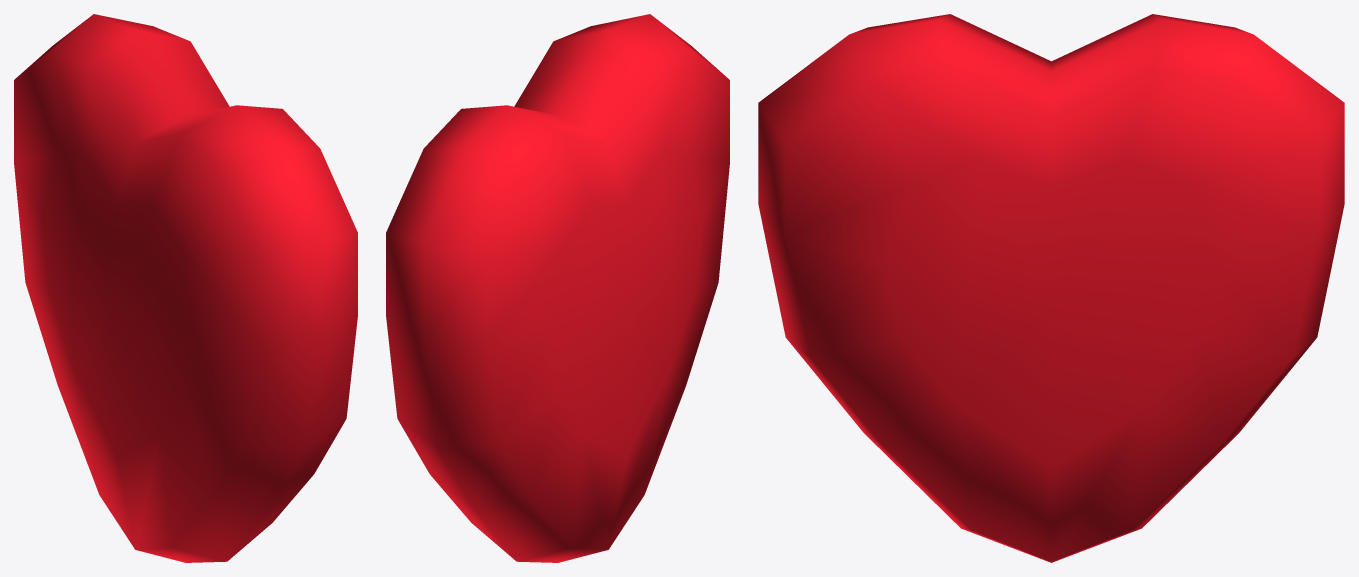
The model's file is heart.fbx.
The picture shows the model from 3 angles, left to right: view 1: azimuth 30°, elevation 25°; view 2: azimuth 150°, elevation 25°; view 3: azimuth 270°, elevation 25°; orthographic projection. The views are drawn at different scales.
Visible parts, largest first — view 1: heart; view 2: heart; view 3: heart.
Part boxes in pixels (x1,y1,x2,y2): heart: (14,14,357,562); heart: (386,14,729,562); heart: (758,14,1344,562).
Bounding box in the file's own units: 65.63 × 205 × 200.
